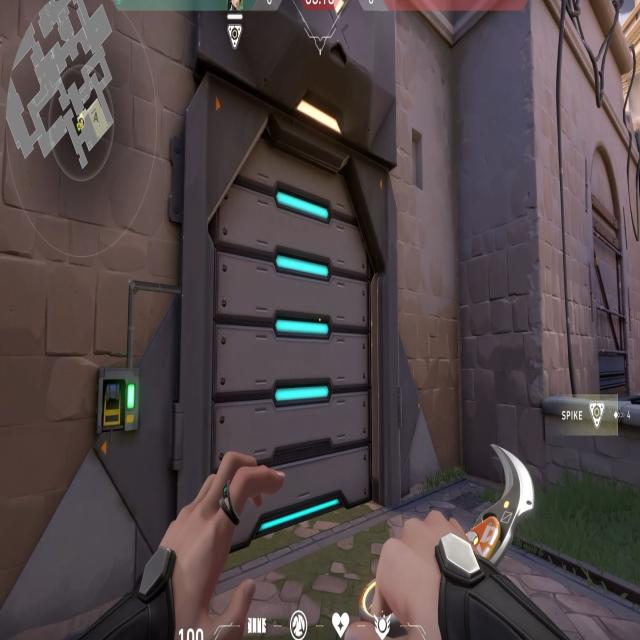A_Door: (181, 35, 428, 548)
